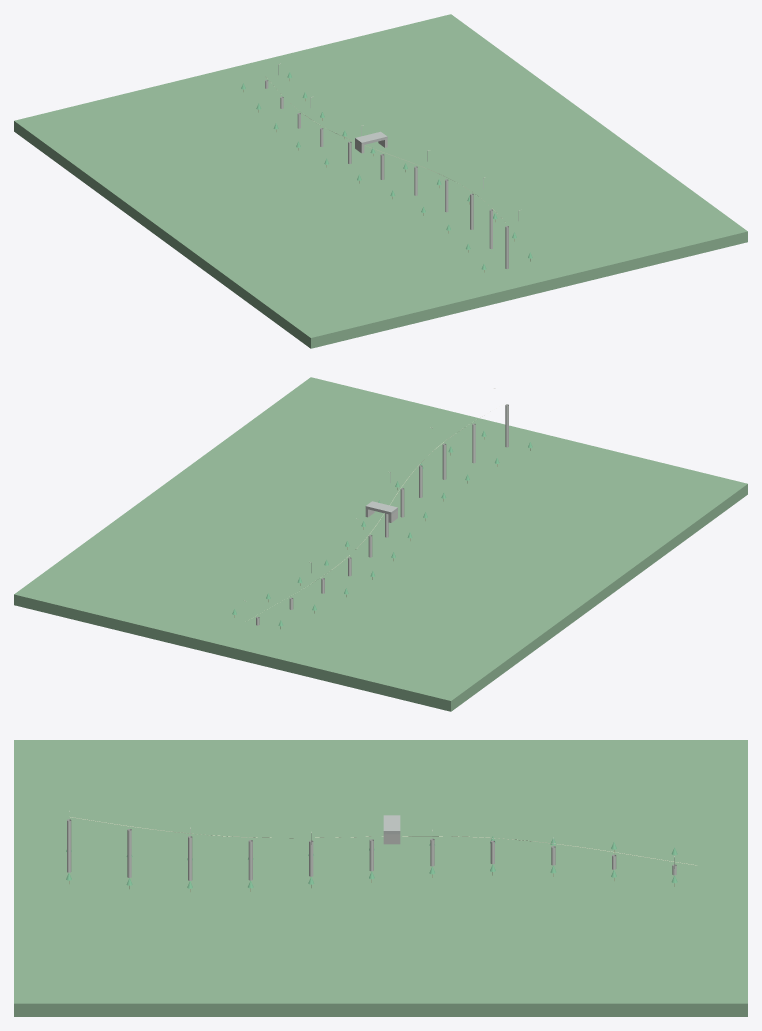
Rendered from imigrantes.glb.
3 renders of one model, top to bottom at view 1: azimuth 30°, elevation 25°; view 2: azimuth 150°, elevation 25°; view 3: azimuth 270°, elevation 25°, orthographic. The views are drawn at different scales.
Visible parts, largest first — view 1: valley; view 2: valley; view 3: valley.
Part boxes in pixels (x1,y1,x2,y2): valley: (14, 14, 747, 348); valley: (14, 377, 747, 711); valley: (14, 740, 747, 1016).
Size of what is drawn, in the model's own units: 340 by 49.05 by 400.
